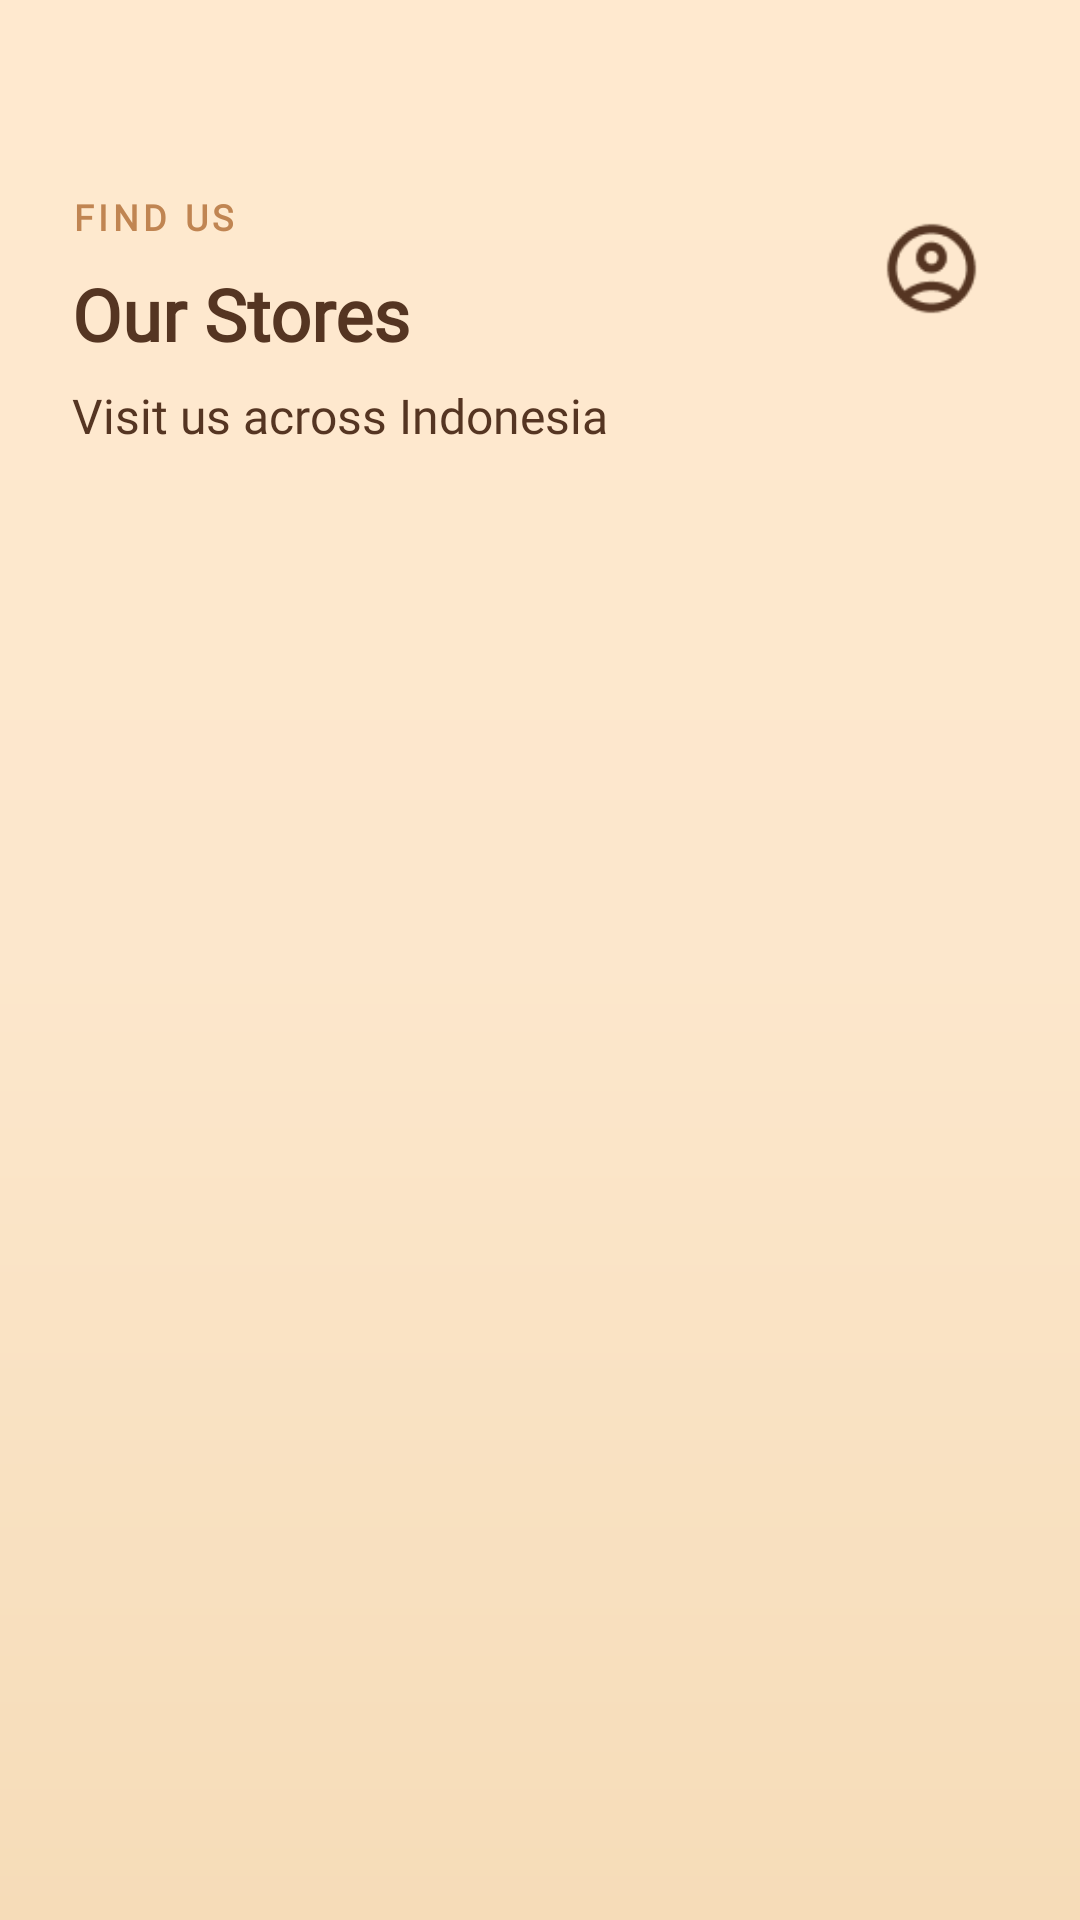

Icons on this 1080px x 1920px Android screen, each with the point to tap as (x,y):
account circle: (931,268)
